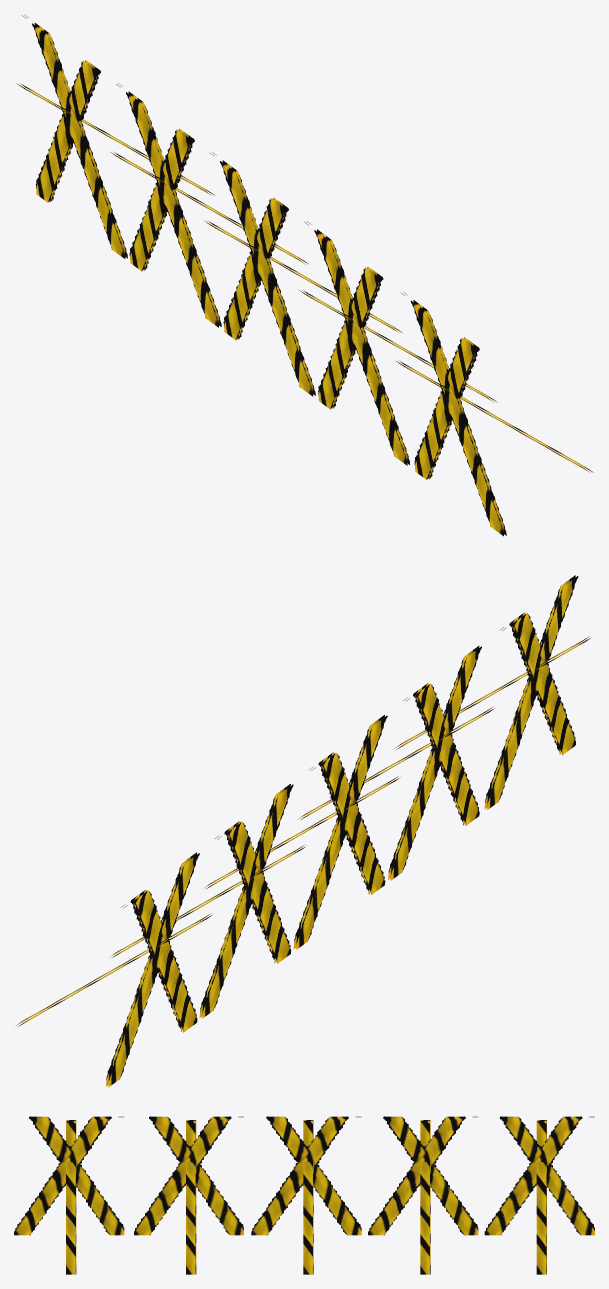
The model's file is tripodbarricade_hdtex.glb.
3 views of the same model, one above another, from view 1: azimuth 30°, elevation 25°; view 2: azimuth 150°, elevation 25°; view 3: azimuth 270°, elevation 25° (orthographic). The views are drawn at different scales.
Visible parts, largest first — view 1: Barricade; view 2: Barricade; view 3: Barricade.
Part boxes in pixels (left/top/right/bottom): Barricade: left=16, top=14, right=593, bottom=536; Barricade: left=16, top=575, right=591, bottom=1087; Barricade: left=14, top=1116, right=594, bottom=1274.
Size of the model in its own units: 2.01 by 1.81 by 8.39.
Materials: 1 (1 with a texture image).
